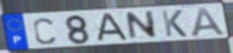8: (63, 13, 91, 45)
A: (190, 6, 229, 38), (94, 12, 131, 43)
C: (32, 17, 58, 46)
K: (160, 9, 189, 38)
N: (124, 9, 159, 41)
